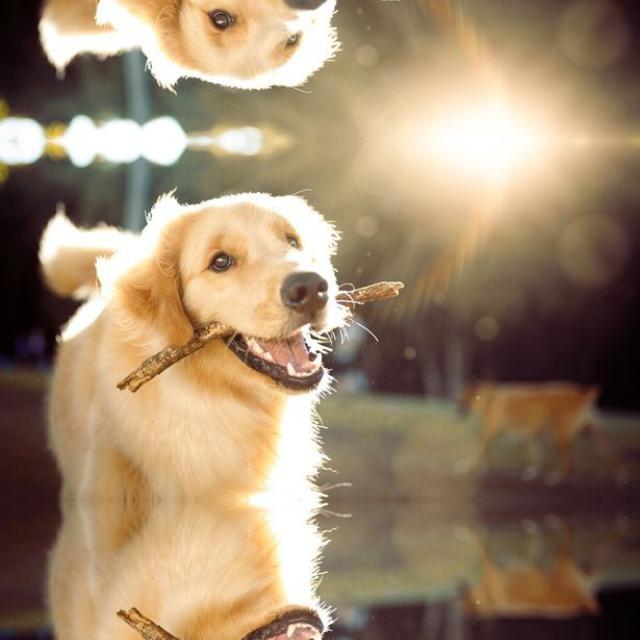dog: (149, 170, 375, 392), (149, 0, 375, 110), (149, 605, 375, 640)
